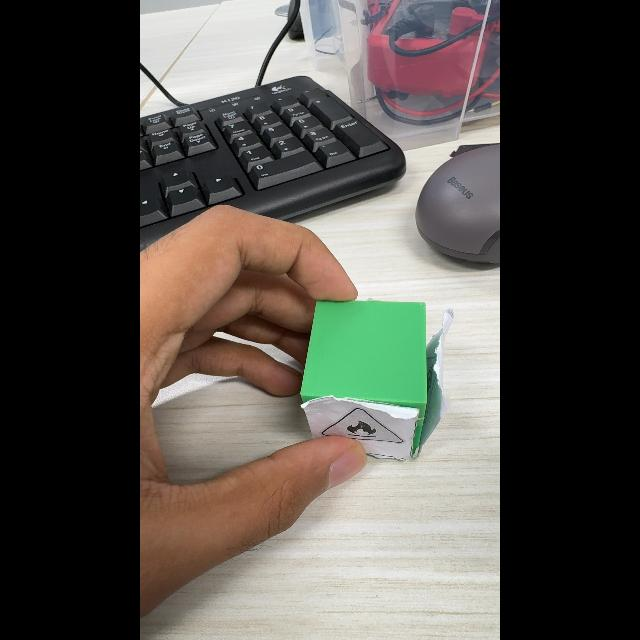Fire: (321, 407, 403, 443)
